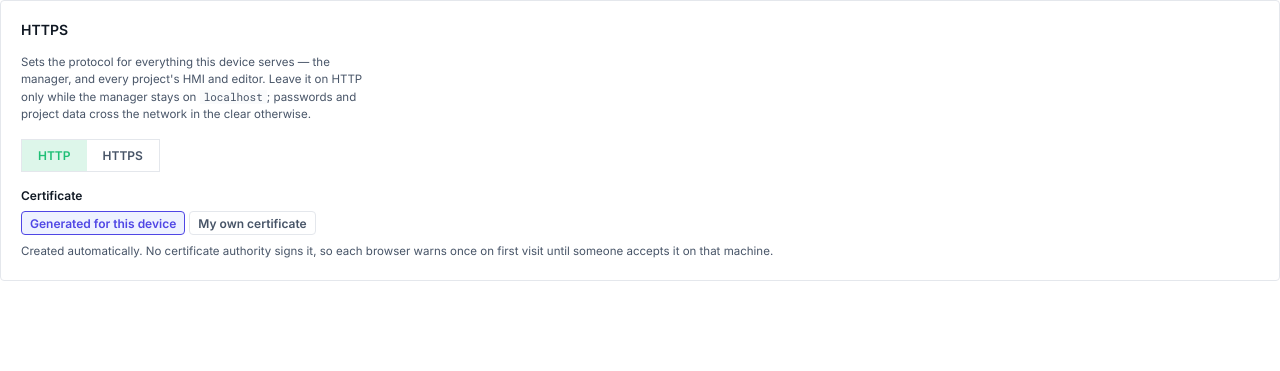
Scenario: HttpsSection › does not restart when applying the setting failed
The width and height of the screenshot is (1280, 371).
Click the button "HTTPS".
click(123, 156)  # box x1=86 y1=140 x2=159 y2=171
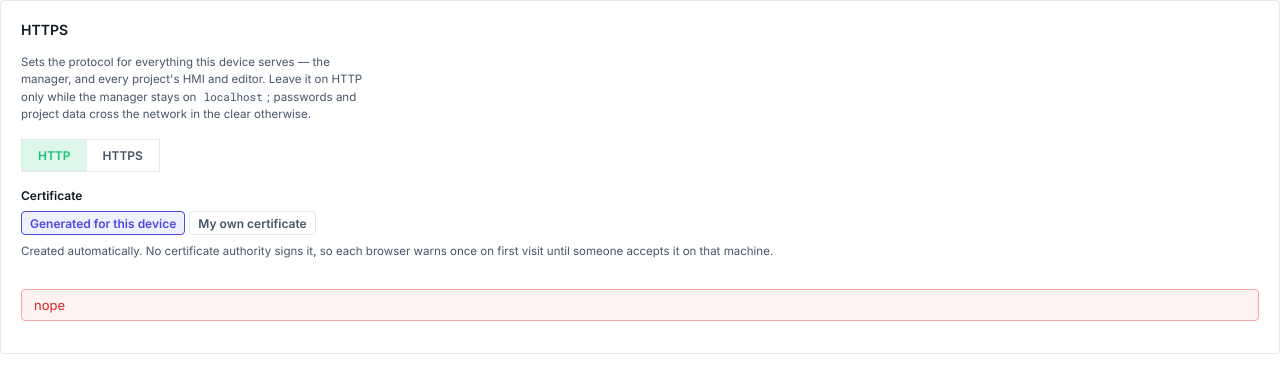
expect the text "nope" is shown: met, box x1=21 y1=289 x2=1259 y2=321
